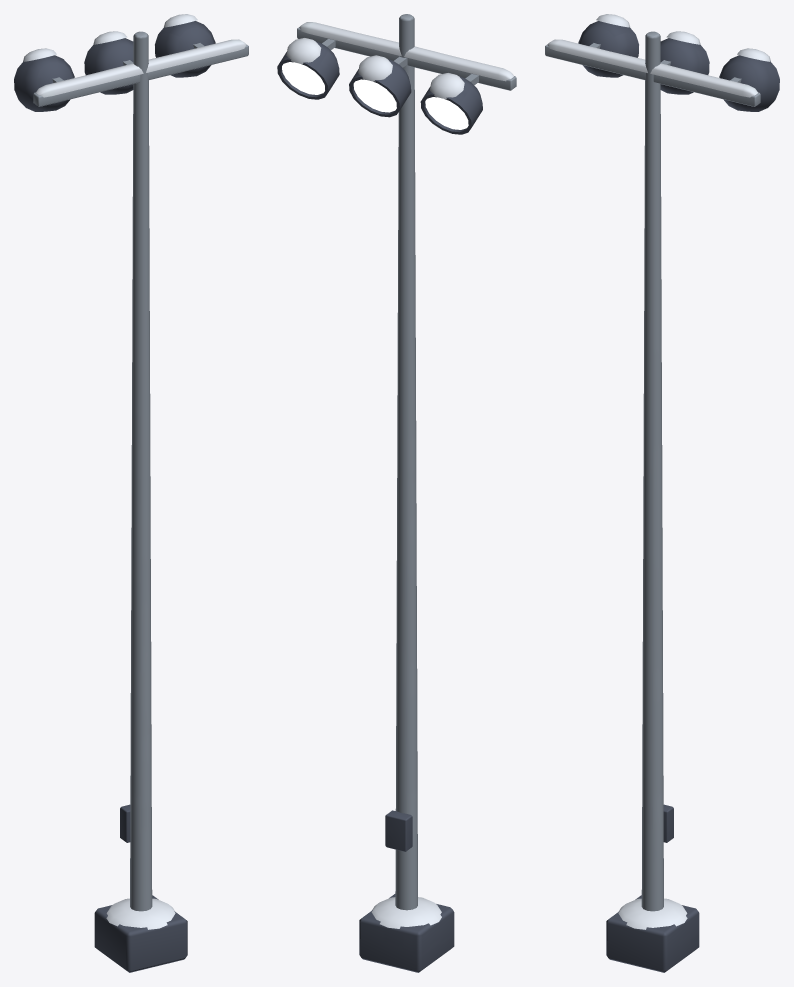
File: SM_Floodlight.glb
3 renders of one model, left to right at view 1: azimuth 30°, elevation 25°; view 2: azimuth 150°, elevation 25°; view 3: azimuth 330°, elevation 25°, orthographic.
Visible parts, largest first — view 1: SM_Floodlight; view 2: SM_Floodlight, glow; view 3: SM_Floodlight.
Part boxes in pixels (x1,y1,x2,y2): SM_Floodlight: (14,14,248,972); SM_Floodlight: (277,14,516,972); glow: (282,62,468,129); SM_Floodlight: (545,14,779,972).
Size of the model in its own units: 2.4 by 10 by 1.1.
Materials: 2 (1 with a texture image).
